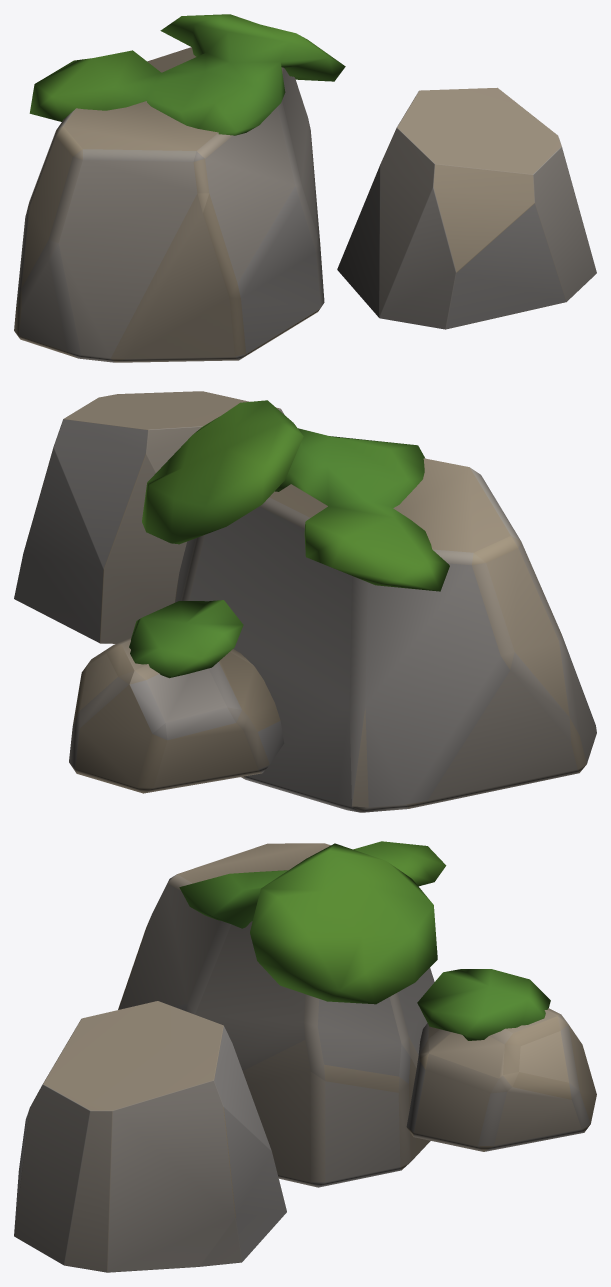
Rendered from rock-c.glb.
The picture shows the model from 3 angles, top to bottom: view 1: azimuth 30°, elevation 25°; view 2: azimuth 150°, elevation 25°; view 3: azimuth 270°, elevation 25°; orthographic projection. The views are drawn at different scales.
Visible parts, largest first — view 1: Rock C Rock, Rock C Moss; view 2: Rock C Rock, Rock C Moss; view 3: Rock C Rock, Rock C Moss.
Part boxes in pixels (x1=…): Rock C Rock: x1=14, y1=47, x2=596, y2=362; Rock C Moss: x1=29, y1=14, x2=345, y2=135; Rock C Rock: x1=14, y1=391, x2=596, y2=812; Rock C Moss: x1=129, y1=400, x2=449, y2=678; Rock C Rock: x1=14, y1=843, x2=596, y2=1272; Rock C Moss: x1=179, y1=841, x2=550, y2=1040.
Bounding box in the file's own units: 1.69 × 0.8093 × 1.49.
